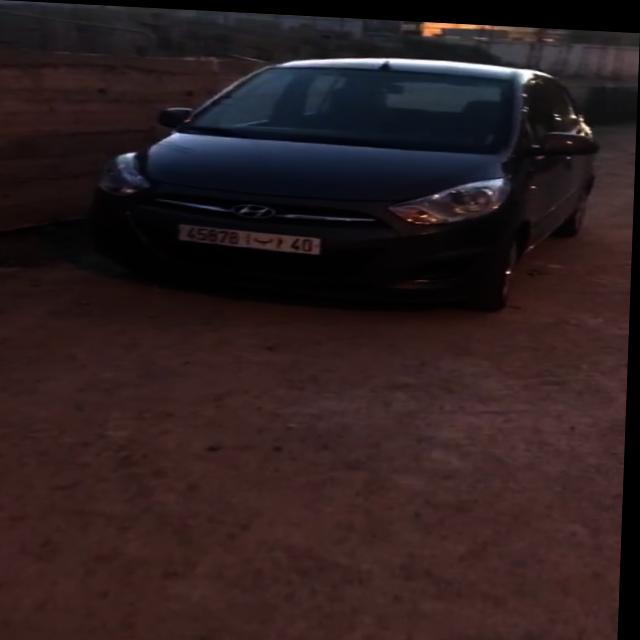License-Plate: (179, 222, 325, 251)
